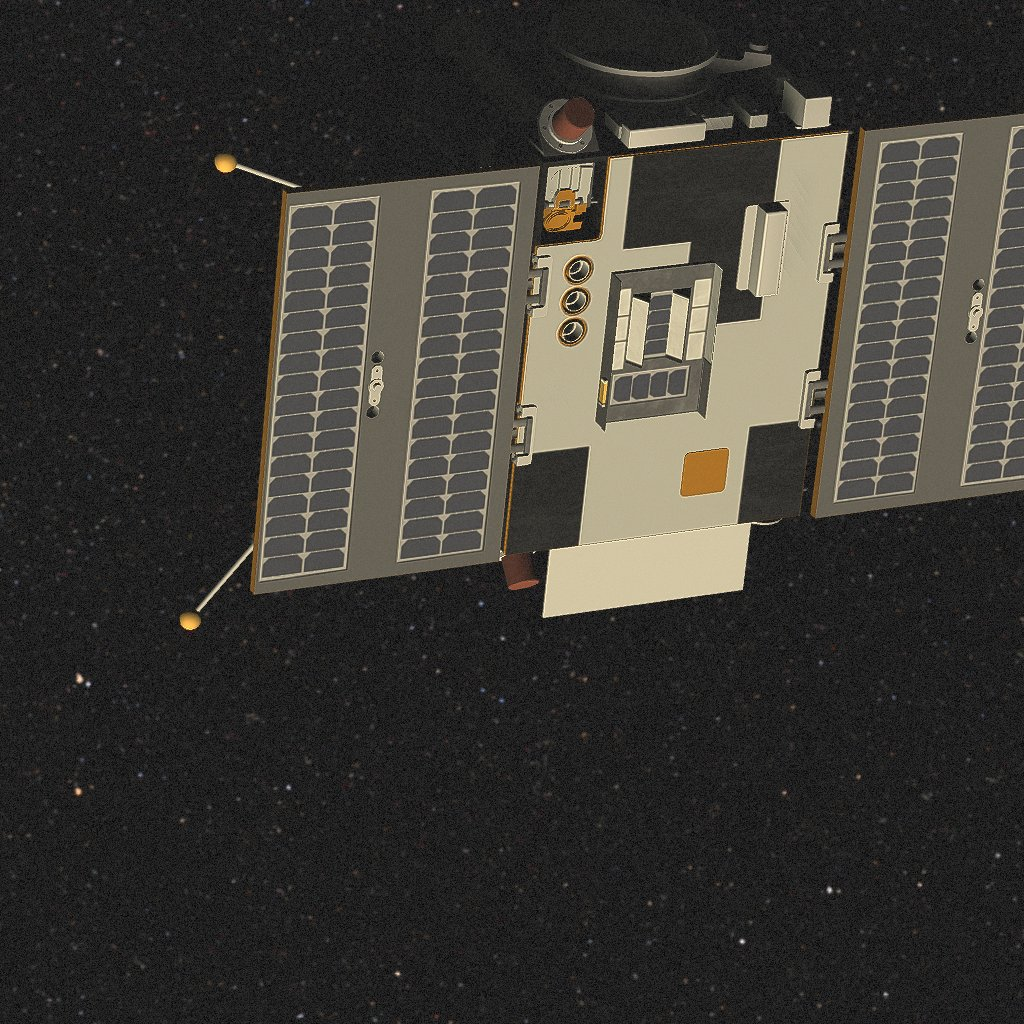proba_2: (180, 0, 1024, 630)
